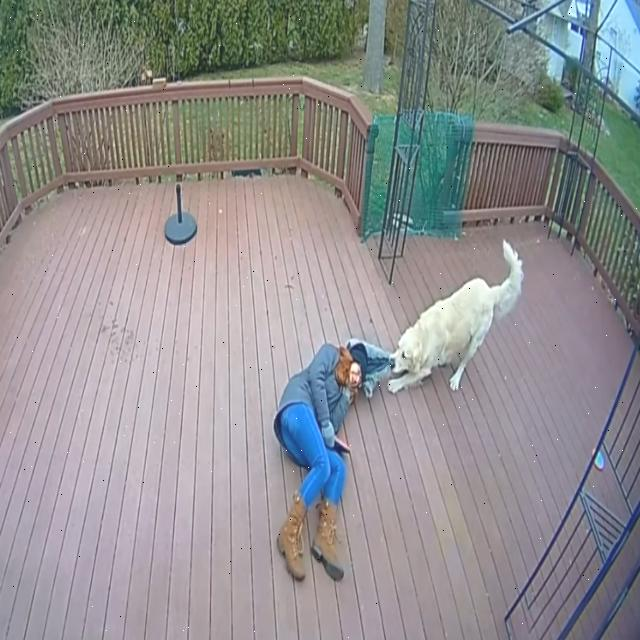fallen: (274, 341, 374, 579)
